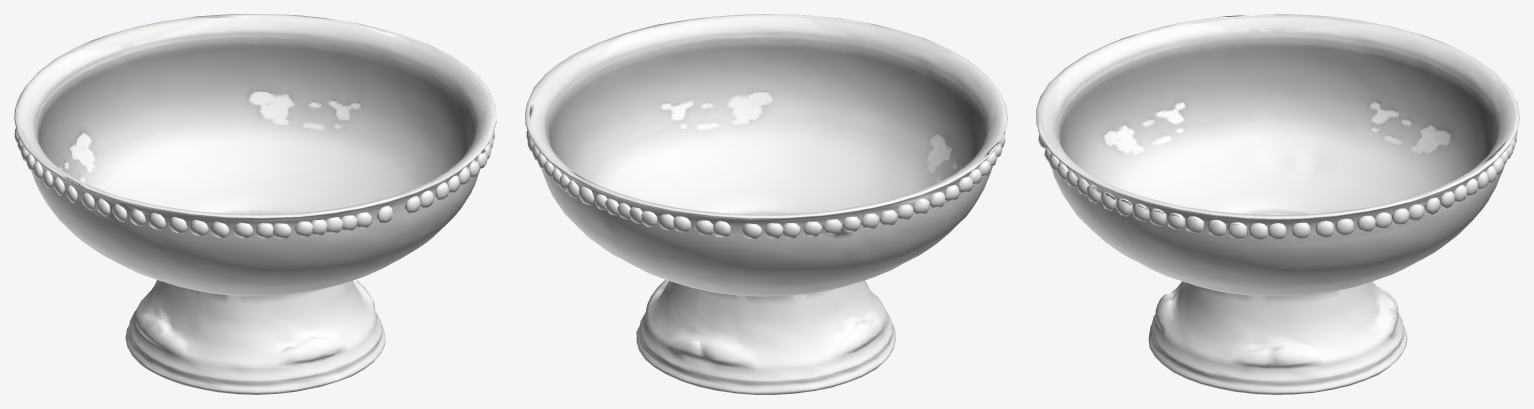
File: Puch_Bowl_17INCHESTALL_Tabletop_0222023632_texture.glb
3 renders of one model, left to right at view 1: azimuth 30°, elevation 25°; view 2: azimuth 150°, elevation 25°; view 3: azimuth 270°, elevation 25°, orthographic.
Parts seen in each view (by area): view 1: Mesh_0.001; view 2: Mesh_0.001; view 3: Mesh_0.001.
Part boxes in pixels (x1=…): Mesh_0.001: x1=14, y1=14, x2=496, y2=394; Mesh_0.001: x1=525, y1=14, x2=1007, y2=394; Mesh_0.001: x1=1036, y1=14, x2=1519, y2=394.
Size of the model in its own units: 0.8445 by 0.4318 by 0.8428.
1 material, 1 textured.
